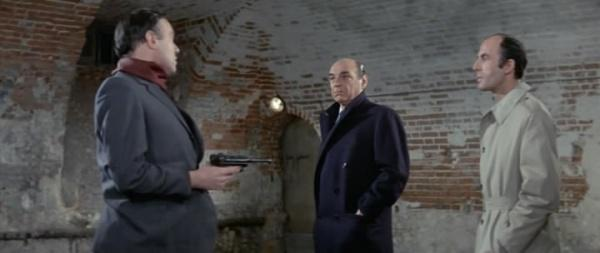Gun: (210, 153, 273, 172)
